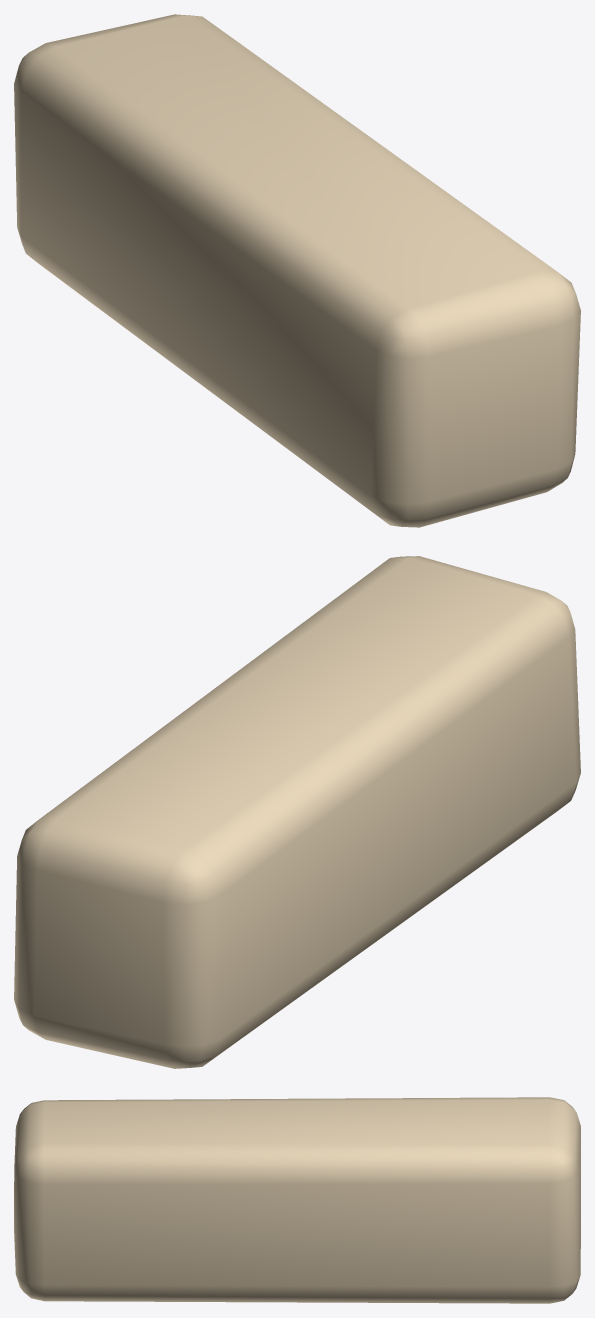
File: BORD_HOCH.glb
3 renders of one model, top to bottom at view 1: azimuth 30°, elevation 25°; view 2: azimuth 150°, elevation 25°; view 3: azimuth 270°, elevation 25°, orthographic. The views are drawn at different scales.
Visible parts, largest first — view 1: BORD_HOCH; view 2: BORD_HOCH; view 3: BORD_HOCH.
Part boxes in pixels (box(x1,y1,x2,y2)): BORD_HOCH: box(14, 14, 580, 527); BORD_HOCH: box(14, 556, 580, 1068); BORD_HOCH: box(14, 1097, 580, 1303).
Bounding box in the file's own units: 0.4655 × 0.4817 × 1.55.
